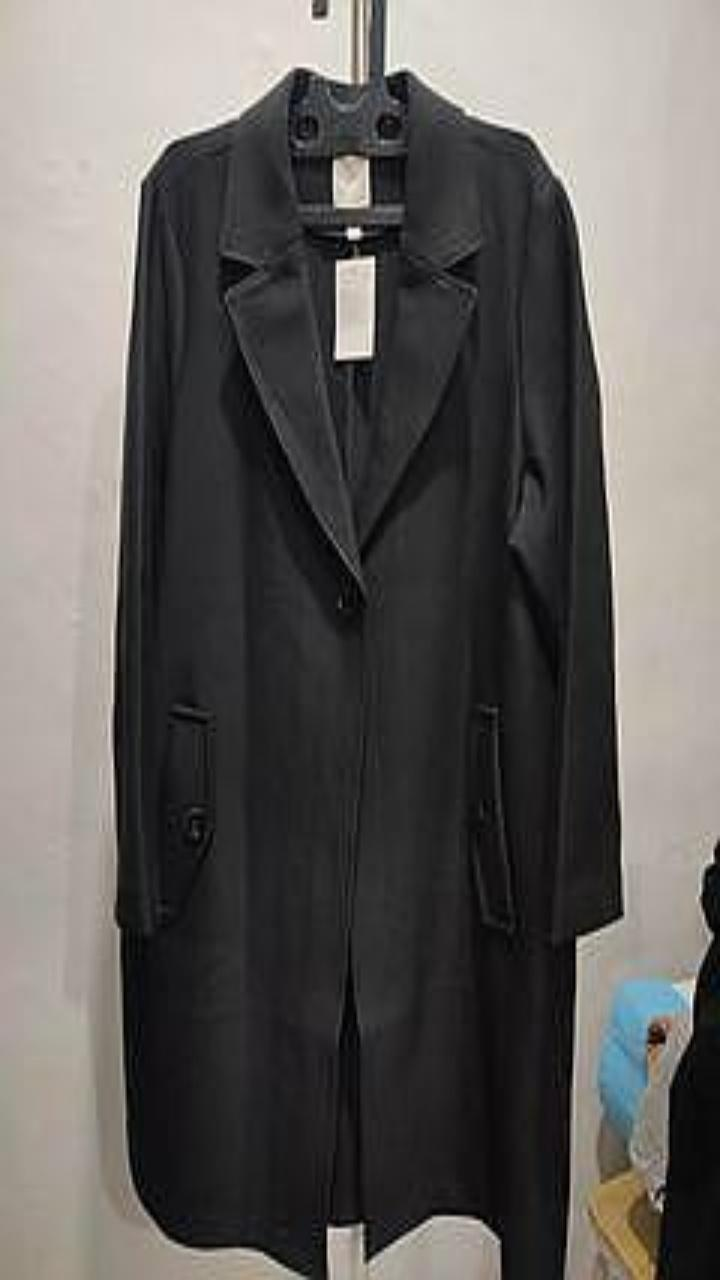Coat: (113, 68, 622, 1279), (656, 841, 719, 1279)
